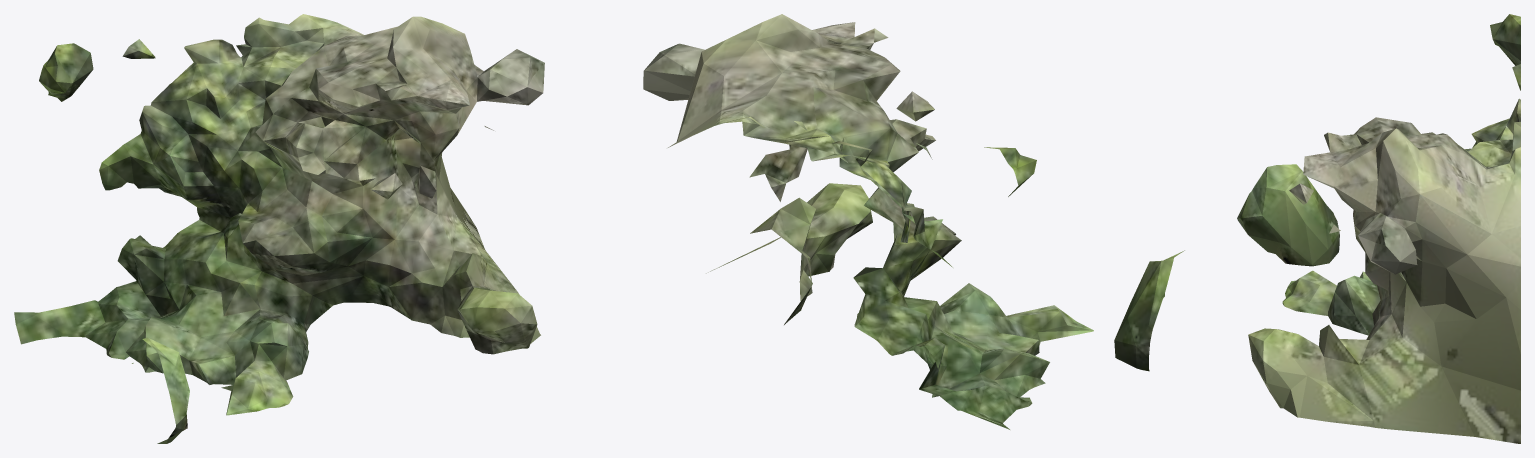
The picture shows the model from 3 angles, left to right: view 1: azimuth 30°, elevation 25°; view 2: azimuth 150°, elevation 25°; view 3: azimuth 270°, elevation 25°; orthographic projection. The views are drawn at different scales.
Size of the model in its own units: 19.14 by 11.69 by 11.64.
Materials: 2 (2 with a texture image).
